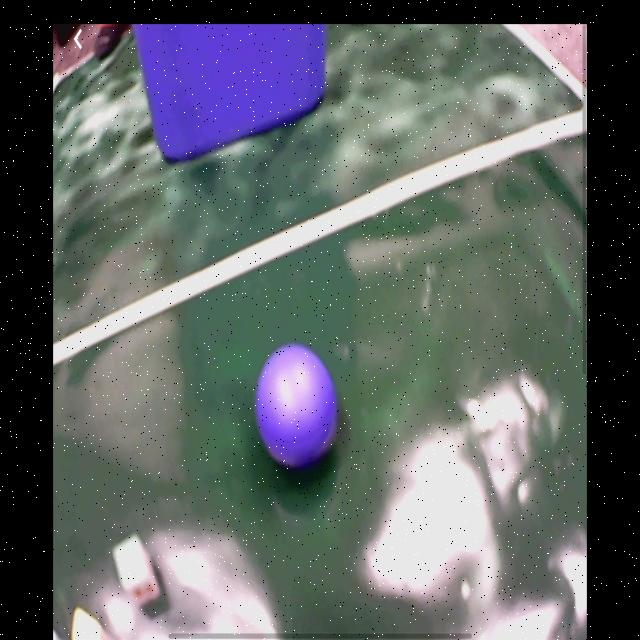ball: (254, 343, 337, 468)
